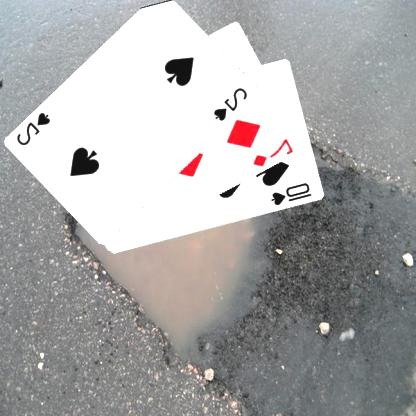10S: (270, 180, 315, 207)
2S: (15, 109, 54, 147), (213, 84, 251, 122)
7D: (252, 136, 296, 168)
